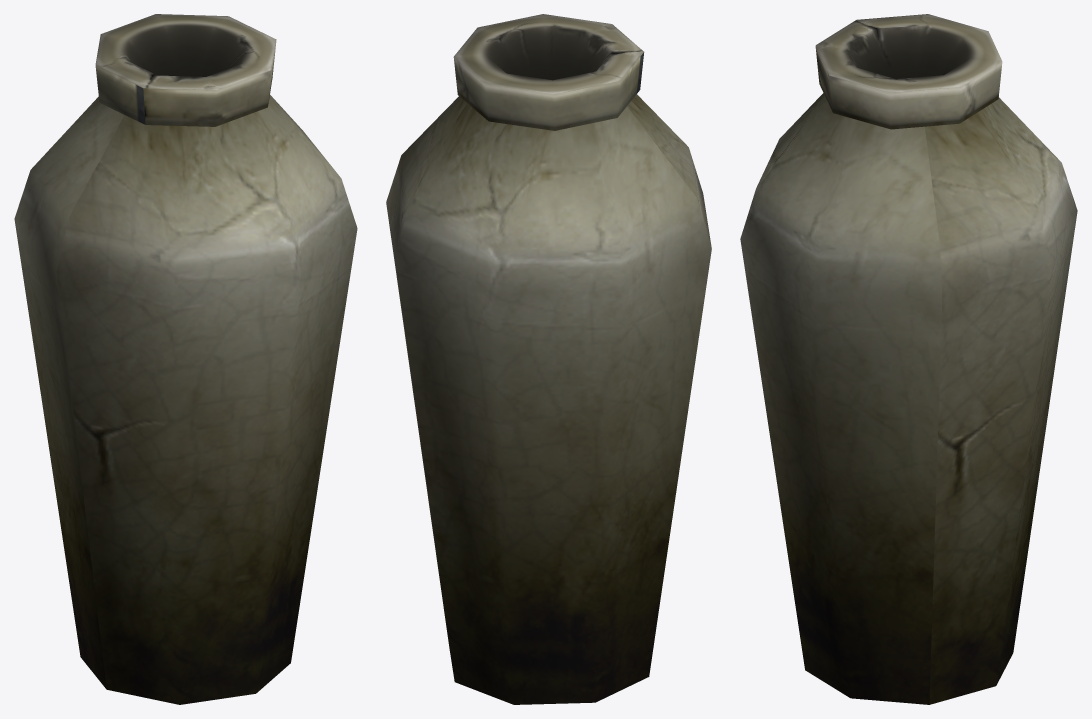
The model's file is GY_guanzi002.fbx.
3 renders of one model, left to right at view 1: azimuth 30°, elevation 25°; view 2: azimuth 150°, elevation 25°; view 3: azimuth 270°, elevation 25°, orthographic.
Visible parts, largest first — view 1: GY_guanzi002; view 2: GY_guanzi002; view 3: GY_guanzi002.
Part boxes in pixels (<box>): GY_guanzi002: <box>14,14,357,704</box>; GY_guanzi002: <box>386,14,711,704</box>; GY_guanzi002: <box>740,14,1077,704</box>.
Bounding box in the file's own units: 47.77 × 95.16 × 47.78.
